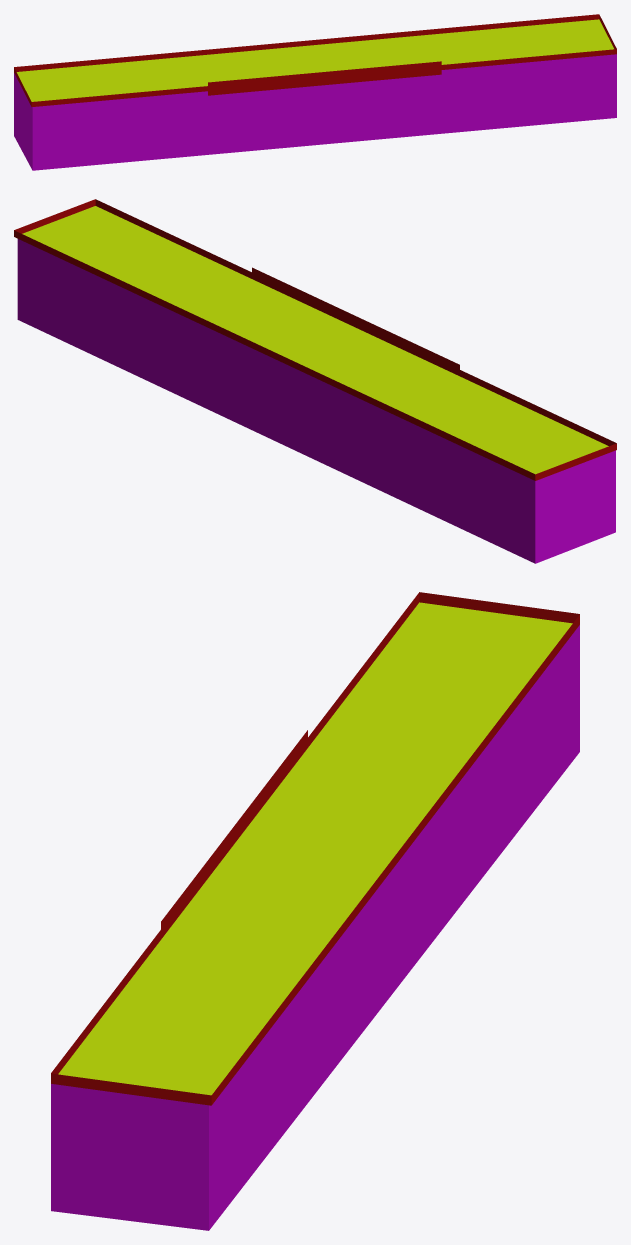
Rendered from bgj_131.glb.
3 renders of one model, top to bottom at view 1: azimuth 30°, elevation 25°; view 2: azimuth 150°, elevation 25°; view 3: azimuth 270°, elevation 25°, orthographic. The views are drawn at different scales.
Parts seen in each view (by area): view 1: bgj_131; view 2: bgj_131; view 3: bgj_131.
Boxes of the visible parts, x1,y1,x2,y2 form: bgj_131: (14, 14, 616, 170); bgj_131: (14, 199, 616, 563); bgj_131: (51, 592, 579, 1230).
Bounding box in the file's own units: 36.63 × 4.92 × 16.28.
